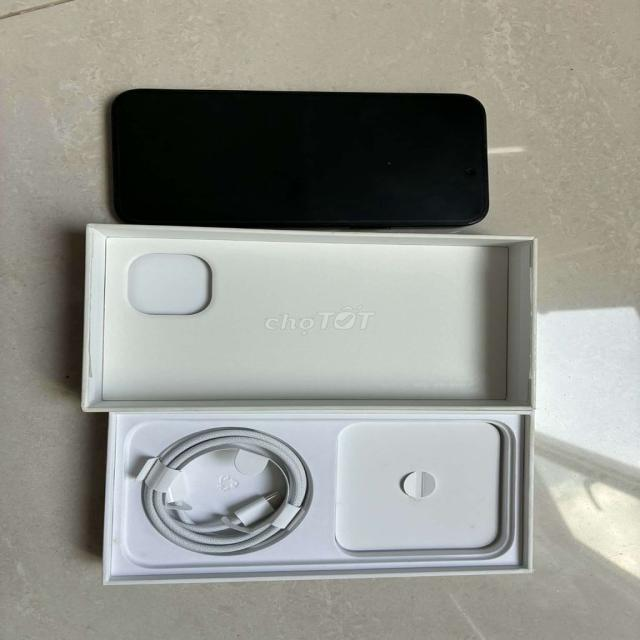gen_15: (87, 79, 514, 243)
